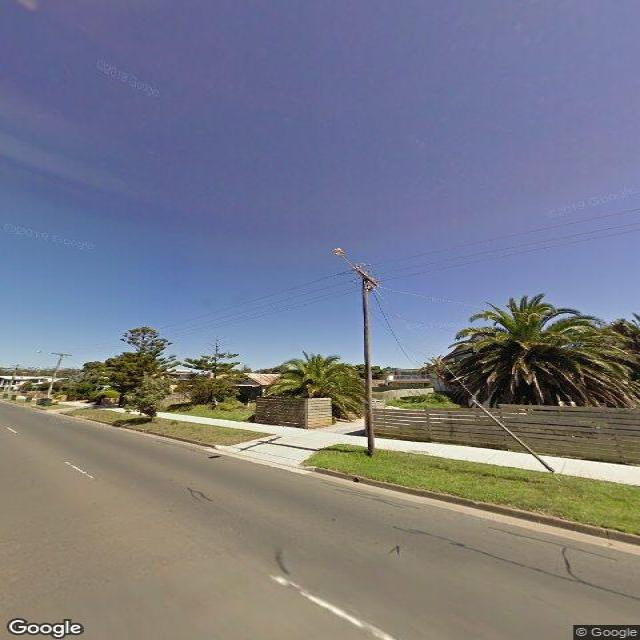crossarm: (351, 264, 380, 292), (51, 352, 72, 357)
mid mount suitable pole: (330, 245, 381, 458)
streetlight: (330, 246, 358, 269), (35, 349, 51, 354)
timber-pole: (361, 270, 376, 457), (47, 354, 62, 399)
